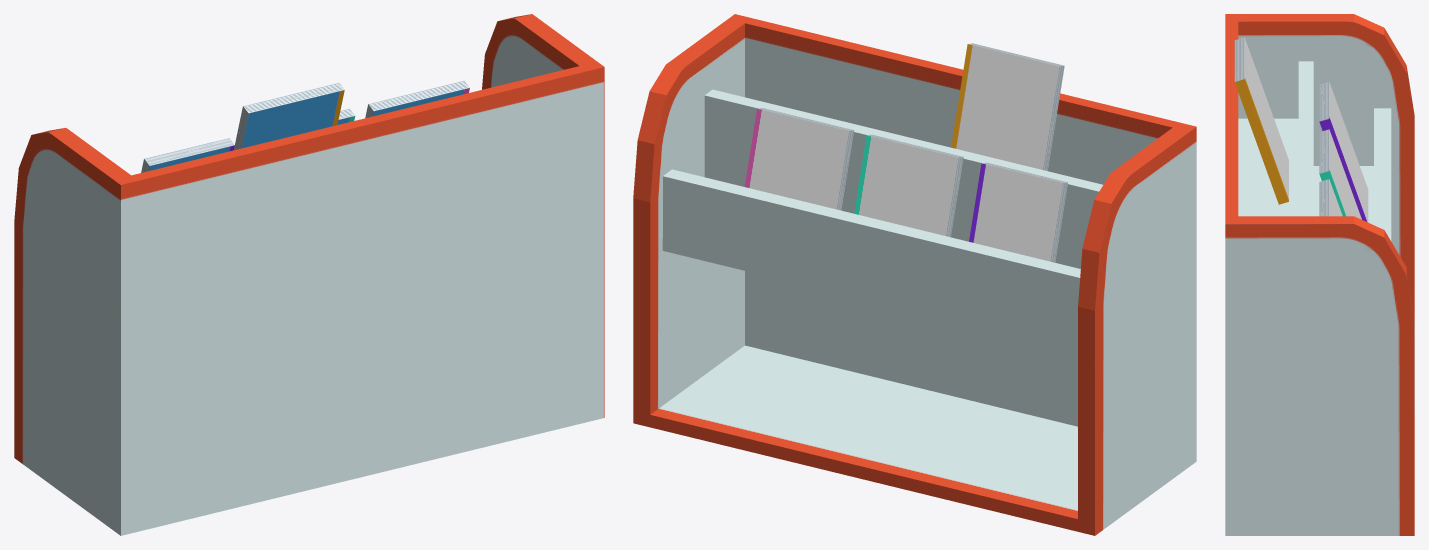
The model's file is BookShelf.fbx.
3 renders of one model, left to right at view 1: azimuth 30°, elevation 25°; view 2: azimuth 150°, elevation 25°; view 3: azimuth 270°, elevation 25°, orthographic. The views are drawn at different scales.
Visible parts, largest first — view 1: BookShelf; view 2: BookShelf; view 3: BookShelf.
Part boxes in pixels (bbox=[...]): BookShelf: bbox=[14, 14, 604, 535]; BookShelf: bbox=[633, 14, 1196, 535]; BookShelf: bbox=[1225, 14, 1414, 535].
Bounding box in the file's own units: 935 × 719 × 357.
1 material, 1 textured.
